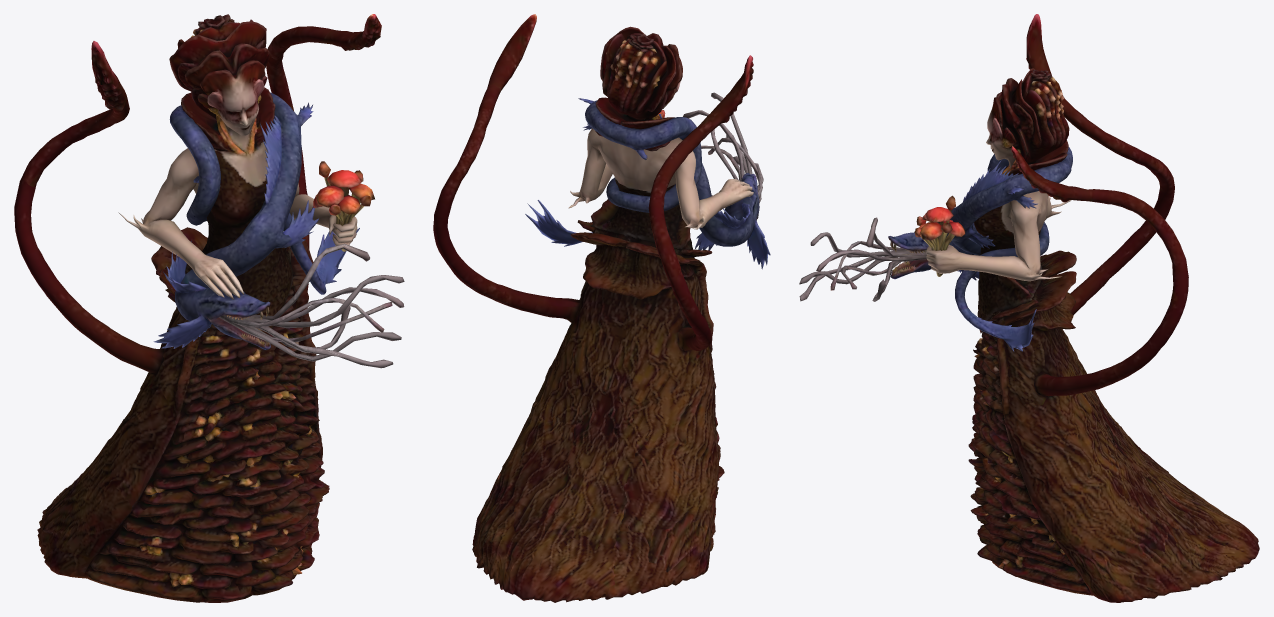
File: MZ4250 - Zuggtmoy.glb
3 renders of one model, left to right at view 1: azimuth 30°, elevation 25°; view 2: azimuth 150°, elevation 25°; view 3: azimuth 270°, elevation 25°, orthographic. The views are drawn at different scales.
Parts seen in each view (by area): view 1: Zuggtmoy.001; view 2: Zuggtmoy.001; view 3: Zuggtmoy.001.
Boxes of the visible parts, left/top/right/bottom form: Zuggtmoy.001: left=14, top=14, right=404, bottom=602; Zuggtmoy.001: left=433, top=14, right=770, bottom=602; Zuggtmoy.001: left=799, top=14, right=1259, bottom=602.
Size of the model in its own units: 112 by 208 by 179.
1 material, 1 textured.
